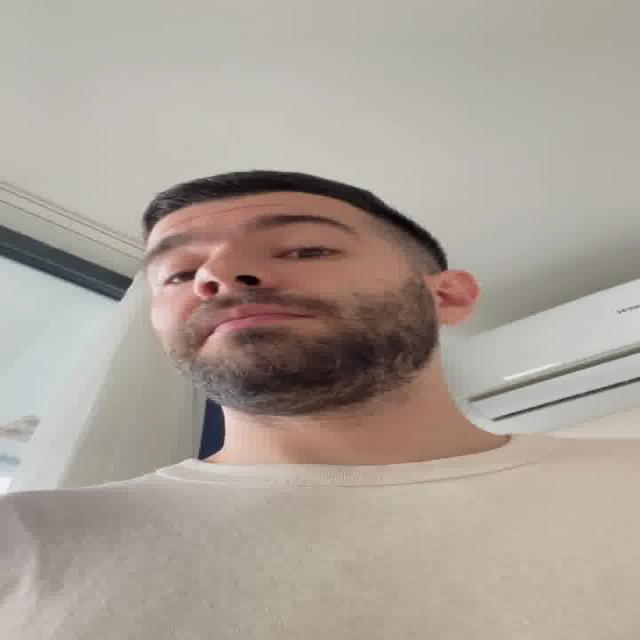earlobe: (431, 312, 464, 326)
eye: (270, 244, 344, 262), (158, 265, 199, 287)
nose: (194, 286, 279, 306)
wholeear: (434, 269, 479, 327)
